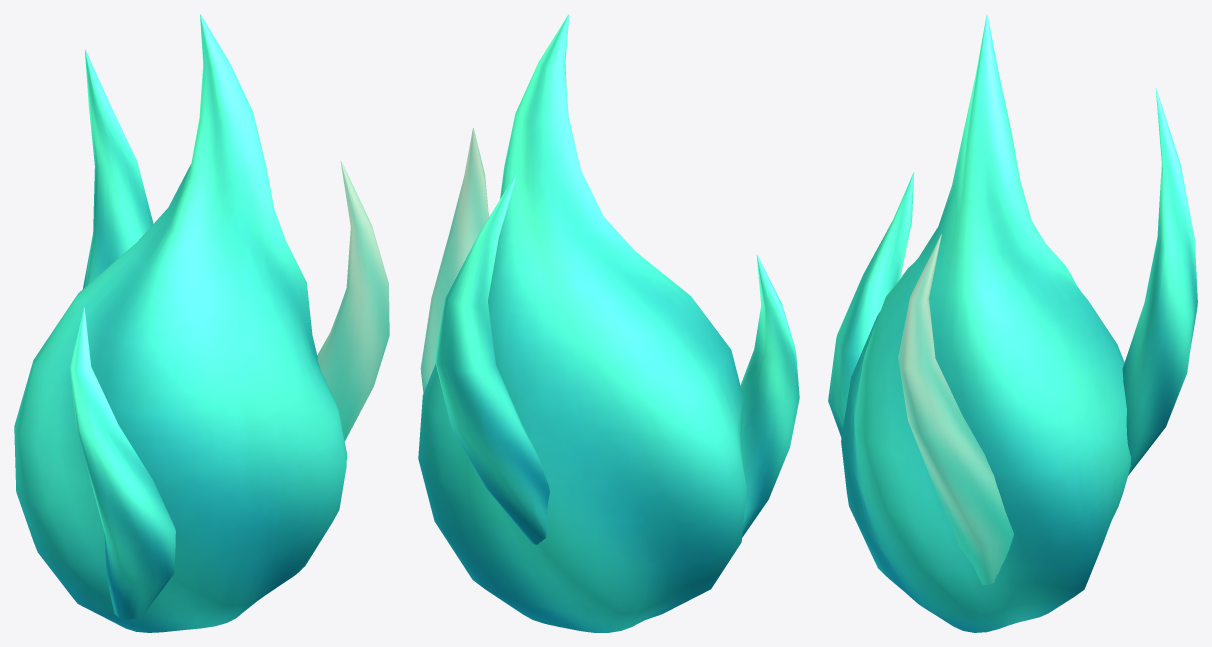
File: nyanisyarud-oni-guide.glb
3 renders of one model, left to right at view 1: azimuth 30°, elevation 25°; view 2: azimuth 150°, elevation 25°; view 3: azimuth 270°, elevation 25°, orthographic.
Parts seen in each view (by area): view 1: Onibi Guide - Faceless Route Marker; view 2: Onibi Guide - Faceless Route Marker; view 3: Onibi Guide - Faceless Route Marker.
Part boxes in pixels (<box>): Onibi Guide - Faceless Route Marker: <box>14,14,389,632</box>; Onibi Guide - Faceless Route Marker: <box>418,14,799,632</box>; Onibi Guide - Faceless Route Marker: <box>828,14,1197,632</box>.
Bounding box in the file's own units: 0.9849 × 1.72 × 0.9339.
3 materials, 3 textured.
